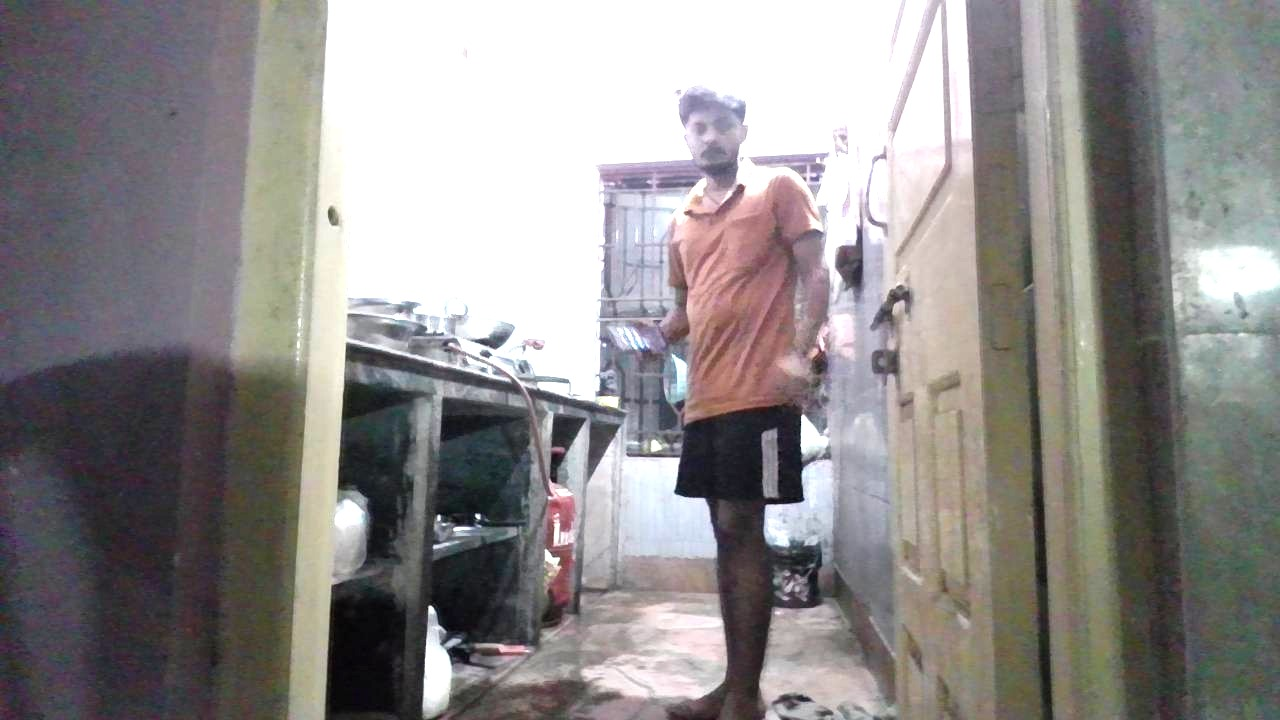red_box: (696, 376, 775, 418)
